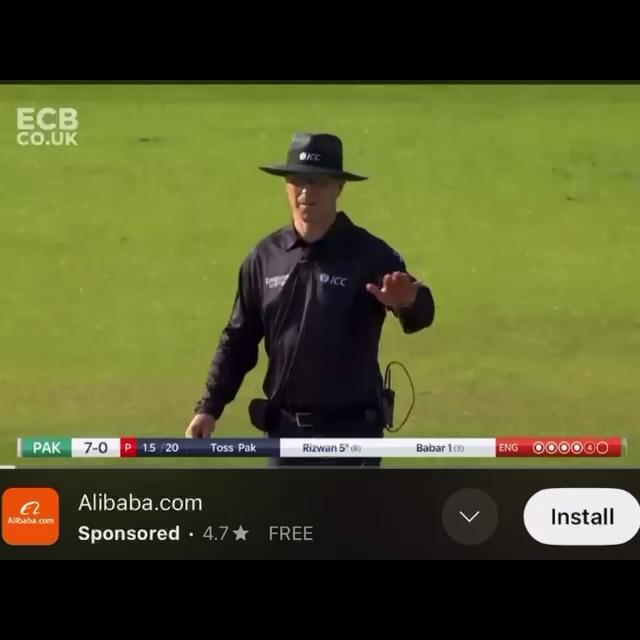umpire: (128, 103, 537, 437)
